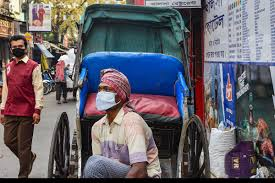mask: (95, 72, 125, 109), (11, 37, 25, 58)
